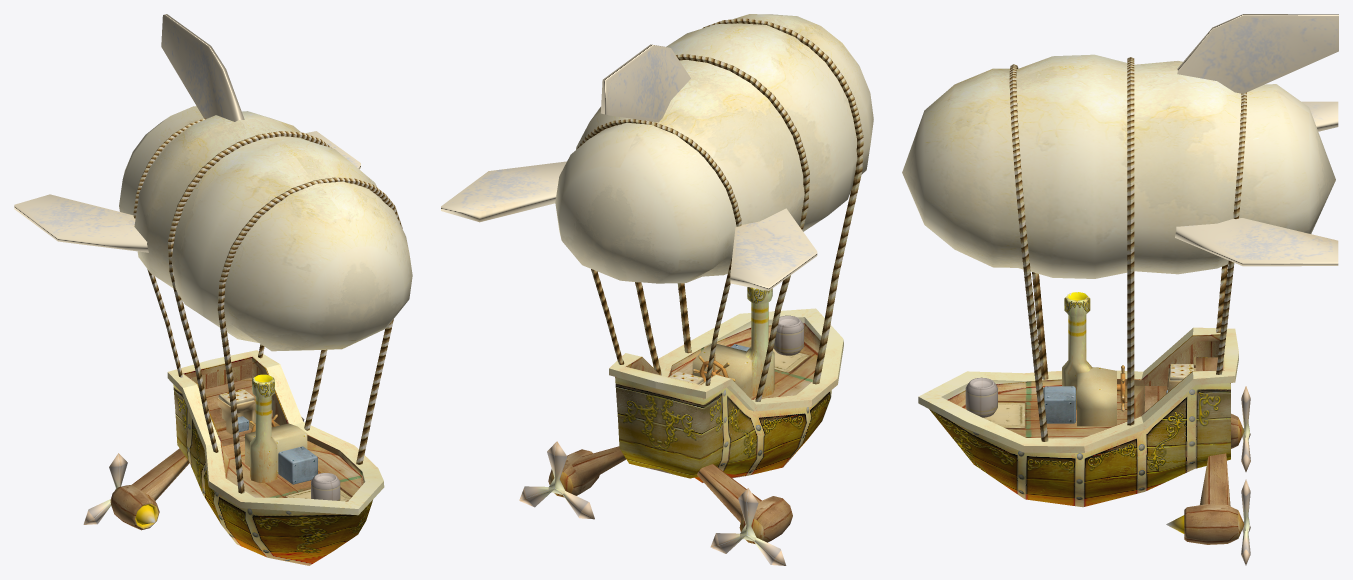
File: AirShip.fbx
3 renders of one model, left to right at view 1: azimuth 30°, elevation 25°; view 2: azimuth 150°, elevation 25°; view 3: azimuth 270°, elevation 25°, orthographic. The views are drawn at different scales.
Visible parts, largest first — view 1: AirShip1, Prop_02; view 2: AirShip1, Prop_02, Prop_01; view 3: AirShip1, Prop_01, Prop_02.
Boxes of the visible parts, box(x1,y1,x2,y2) form: AirShip1: box(14, 14, 412, 565); Prop_02: box(83, 453, 127, 524); AirShip1: box(441, 14, 873, 543); Prop_02: box(710, 488, 786, 565); Prop_01: box(519, 441, 594, 519); AirShip1: box(902, 14, 1338, 544); Prop_01: box(1241, 479, 1250, 565); Prop_02: box(1241, 386, 1250, 471).
Bounding box in the file's own units: 5.24 × 7.48 × 6.04.
